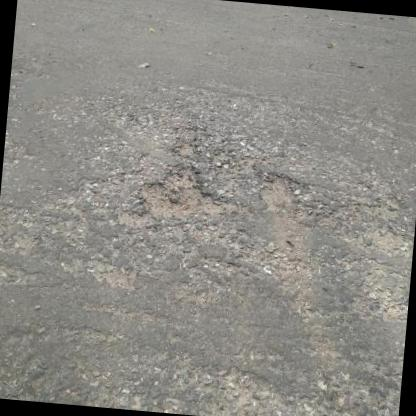pothole: (132, 161, 224, 221), (254, 172, 297, 213)
